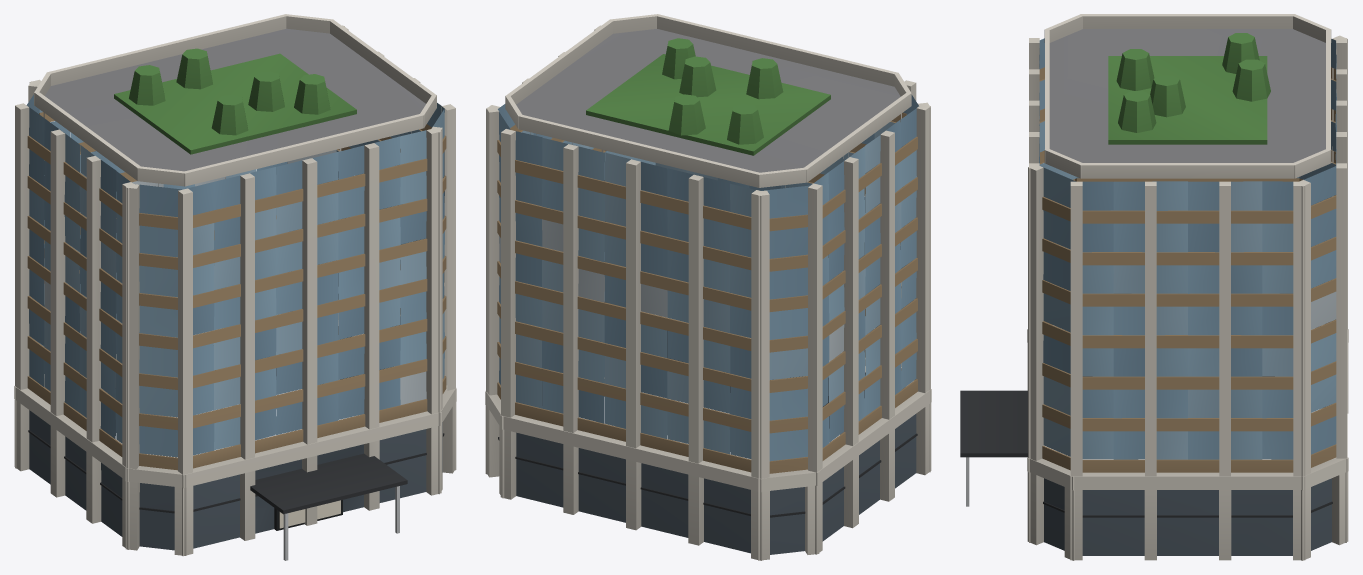
File: bureau2.glb
3 renders of one model, left to right at view 1: azimuth 30°, elevation 25°; view 2: azimuth 150°, elevation 25°; view 3: azimuth 270°, elevation 25°, orthographic. The views are drawn at different scales.
Parts seen in each view (by area): view 1: bureau2; view 2: bureau2; view 3: bureau2.
Part boxes in pixels (bbox=[...]): bureau2: bbox=[14, 14, 456, 560]; bureau2: bbox=[485, 14, 931, 560]; bureau2: bbox=[960, 14, 1348, 560].
Bounding box in the file's own units: 31.98 × 36.4 × 31.39.
